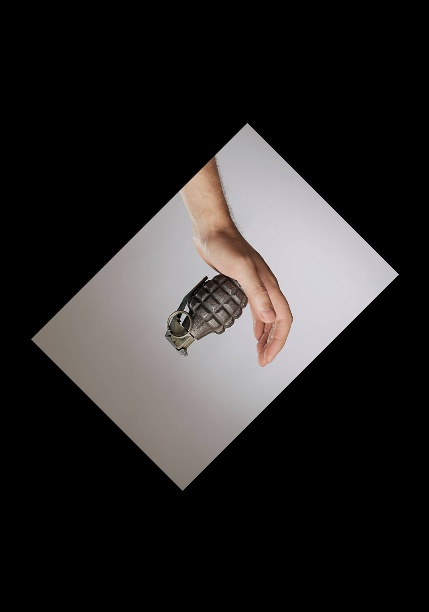e1: (163, 269, 246, 357)
